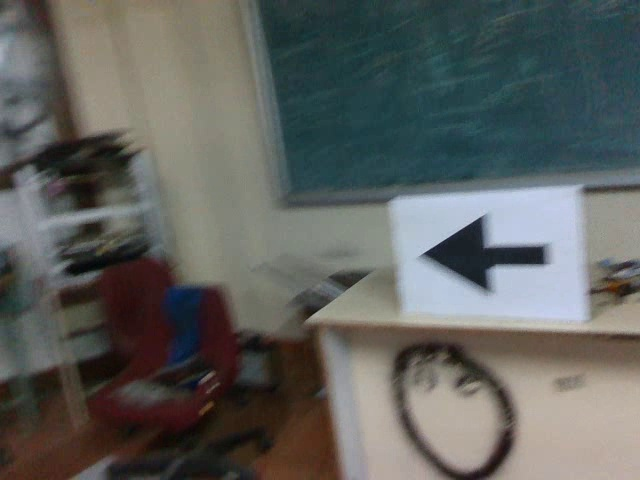Left: (411, 211, 556, 295)
